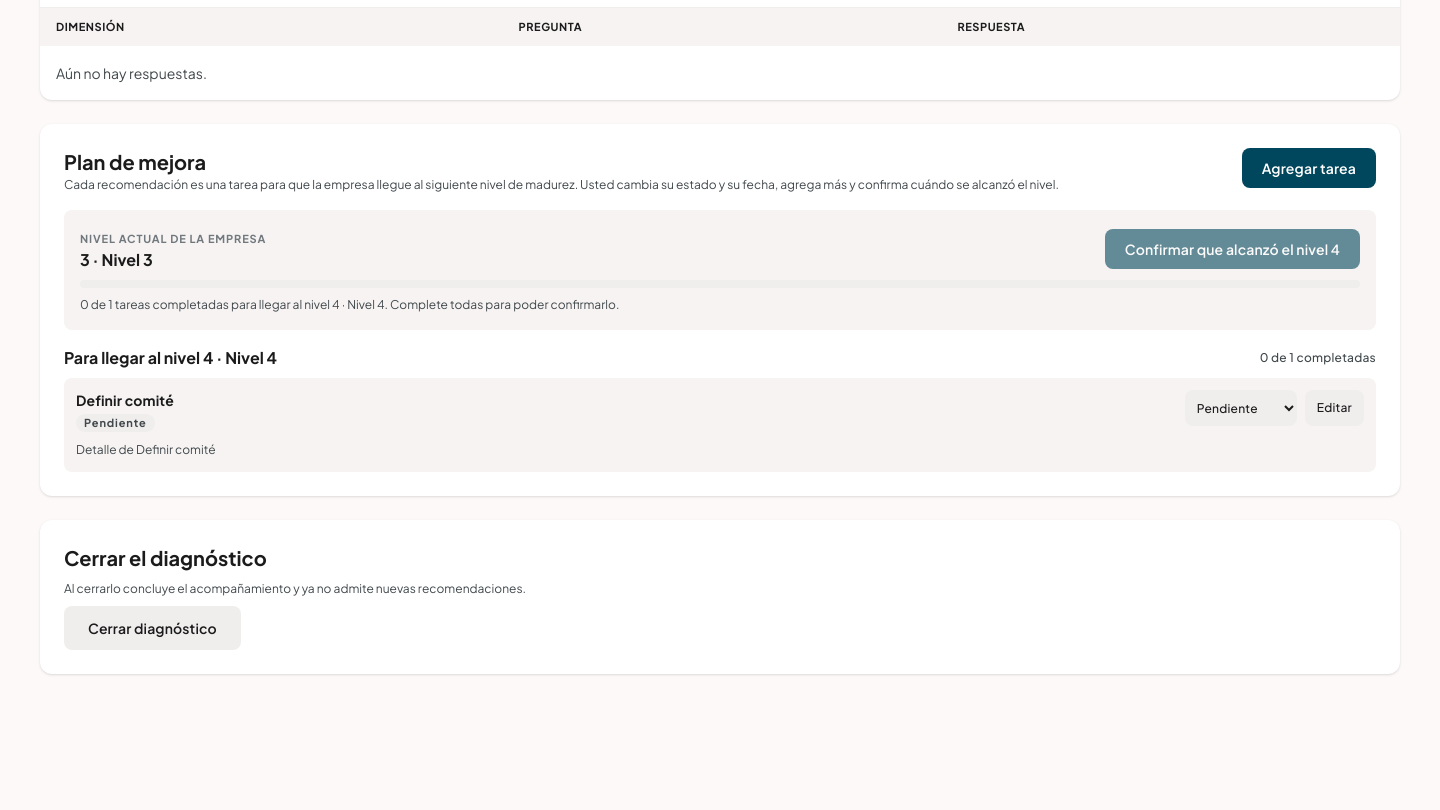
El consultor gestiona el plan de mejora › cambia el estado de una tarea desde la lista
(page scrolled)
Select "Completada" in the dropdown named "Estado de Definir comité": (1241, 408) [1185,390,1297,426]
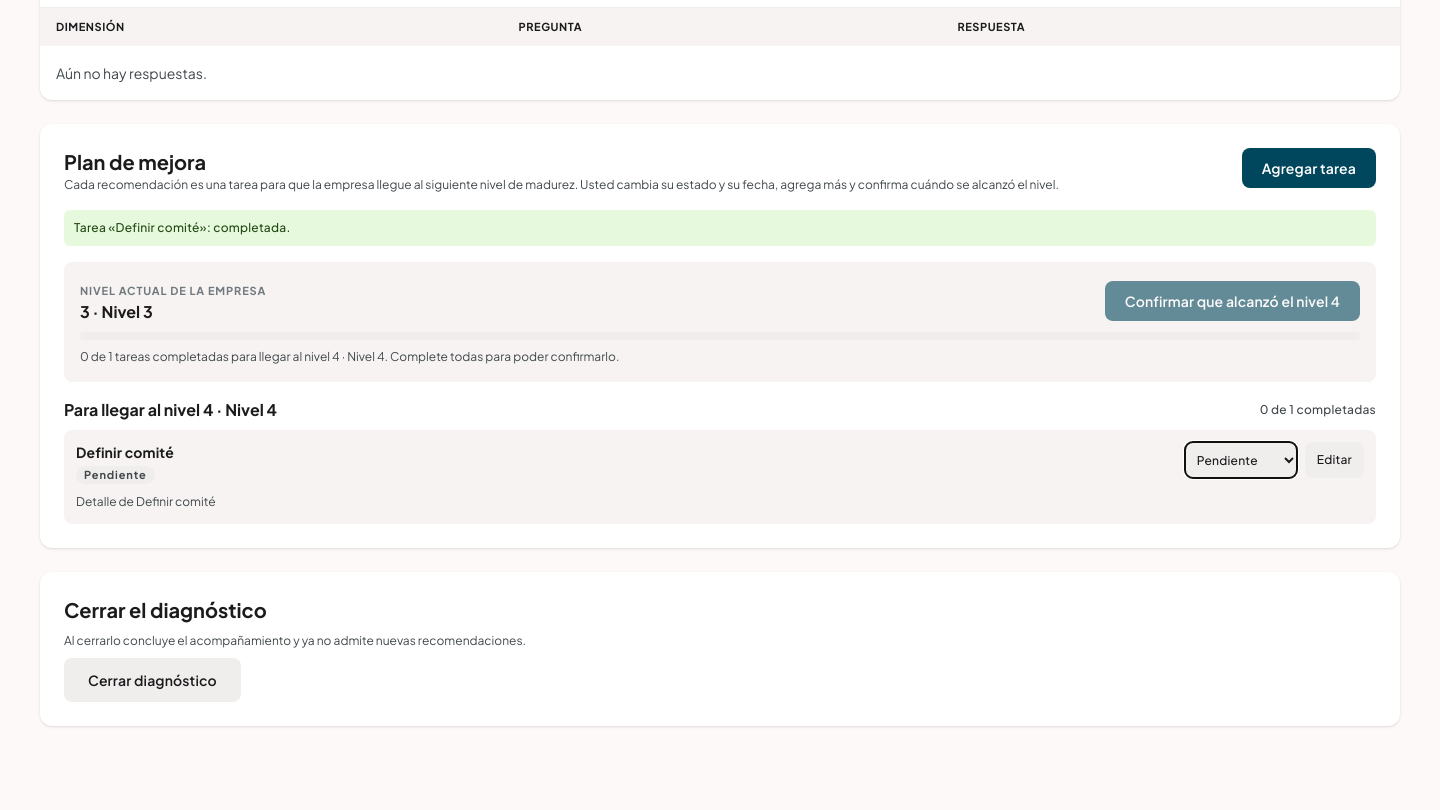
Now the text "Tarea «Definir comité»: completada." is shown, box [64,210,1376,246]
